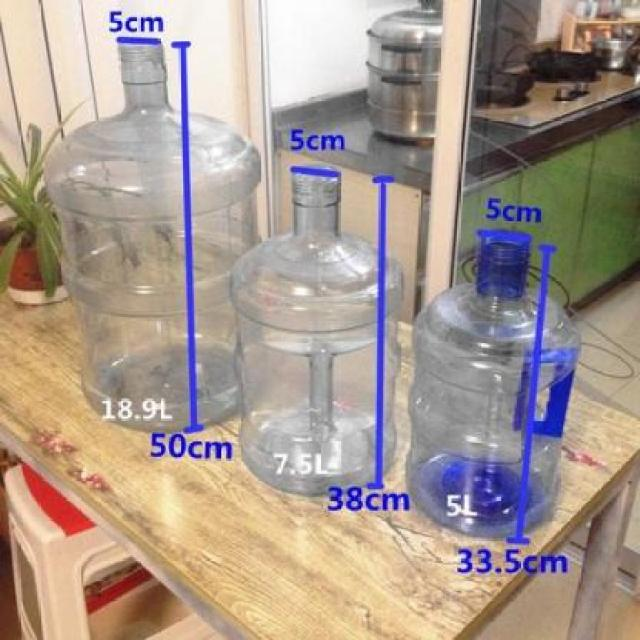coolerbottle: (43, 28, 270, 440), (403, 222, 584, 543)
